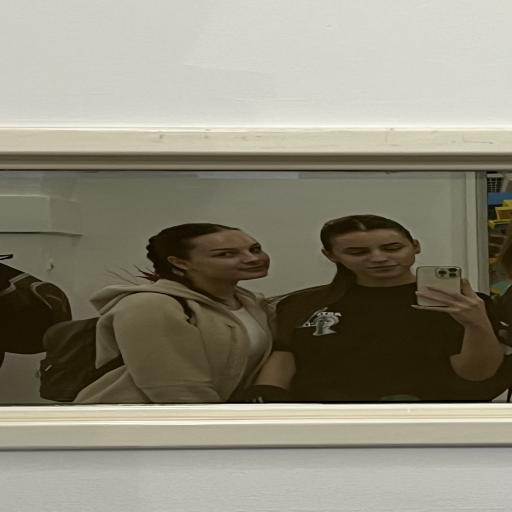marija: (186, 227, 274, 284)
masa: (327, 229, 416, 280)
